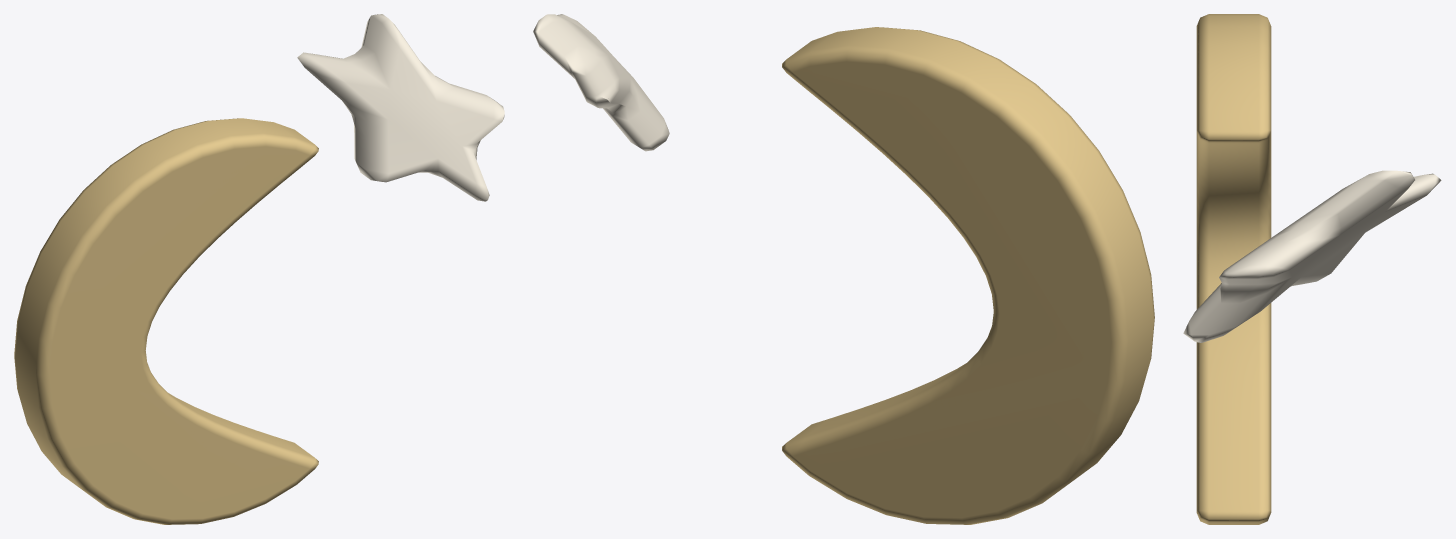
The model's file is moon_pin.glb.
3 renders of one model, left to right at view 1: azimuth 30°, elevation 25°; view 2: azimuth 150°, elevation 25°; view 3: azimuth 270°, elevation 25°, orthographic. The views are drawn at different scales.
Parts seen in each view (by area): view 1: Butter gold moon brooch, Small cream companion star; view 2: Butter gold moon brooch, Small cream companion star; view 3: Butter gold moon brooch, Small cream companion star.
Part boxes in pixels (<box>): Butter gold moon brooch: <box>14,118,318,524</box>; Small cream companion star: <box>297,14,504,201</box>; Butter gold moon brooch: <box>782,27,1154,524</box>; Small cream companion star: <box>533,14,669,151</box>; Butter gold moon brooch: <box>1196,14,1271,524</box>; Small cream companion star: <box>1183,170,1441,342</box>.
Size of the model in its own units: 0.2156 by 0.1674 by 0.0829.
